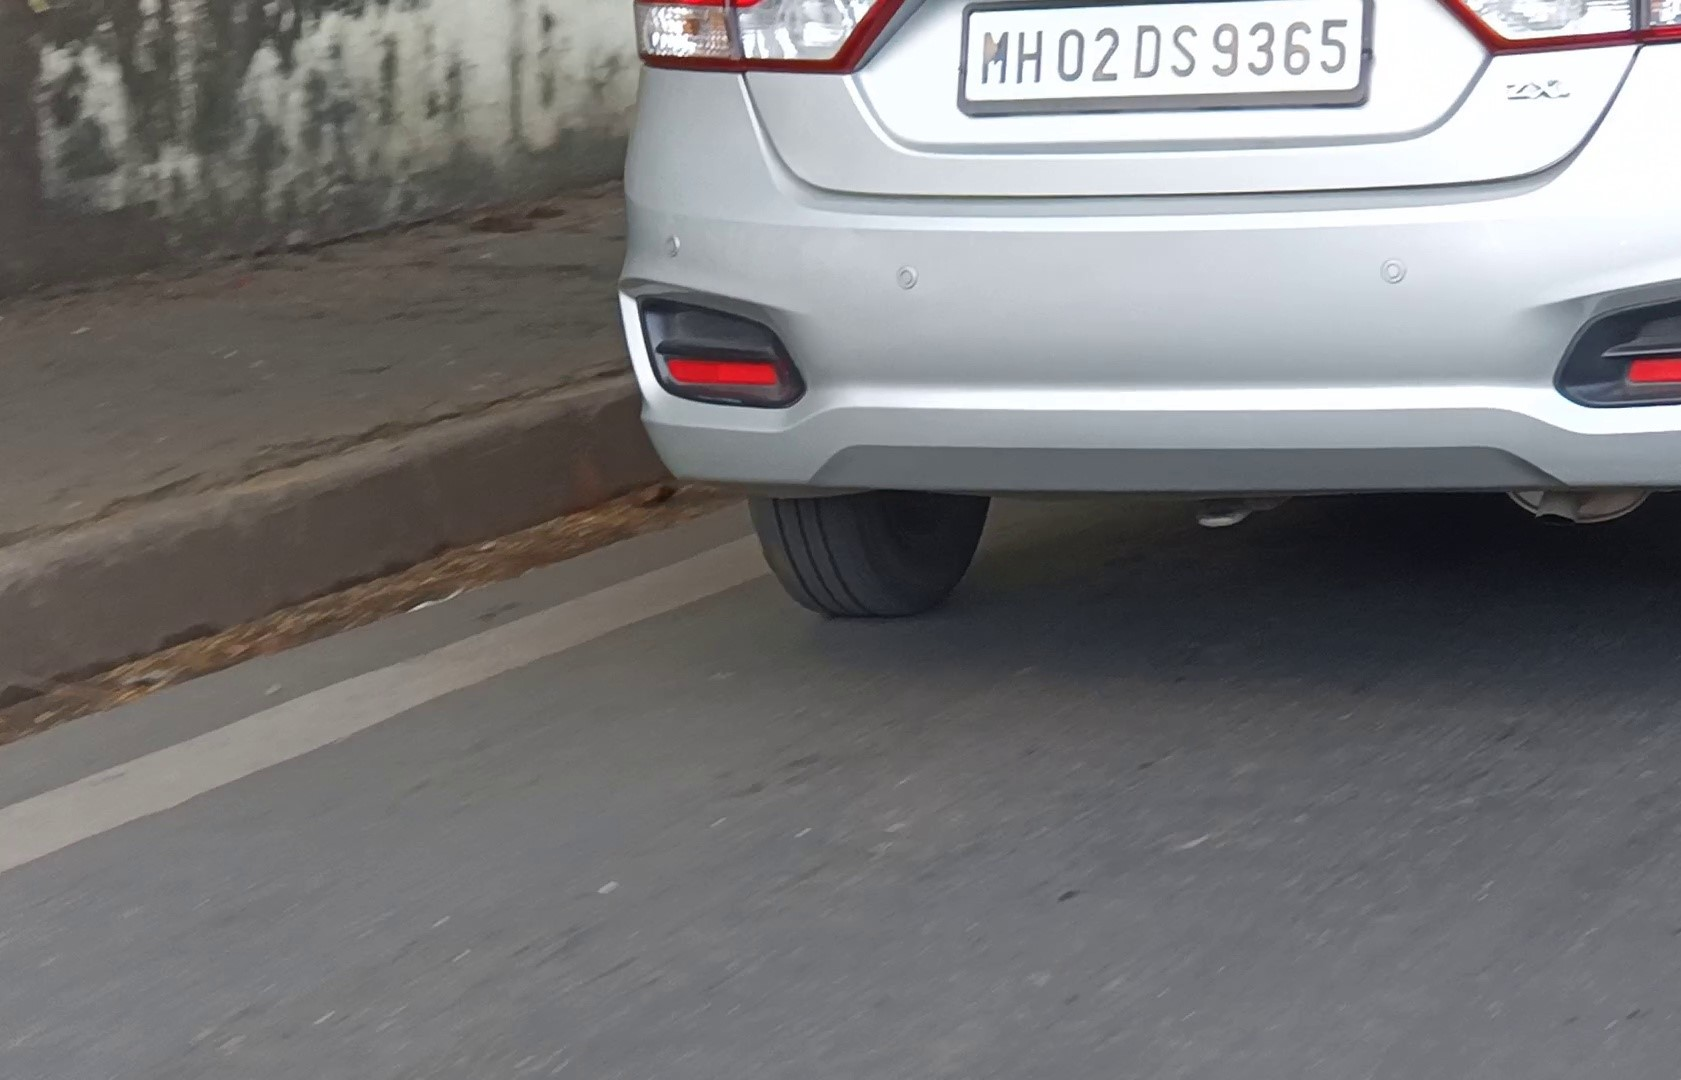MH02DS9365: (964, 3, 1363, 97)
